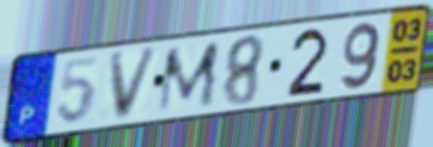2: (285, 26, 330, 100)
5: (54, 56, 102, 127)
8: (219, 33, 267, 108)
9: (338, 19, 382, 92)
M: (154, 38, 223, 117)
V: (107, 44, 162, 124)
